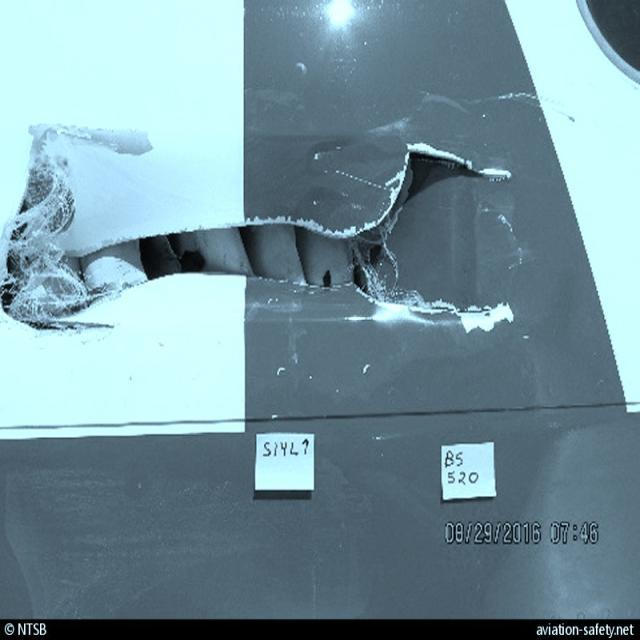crack: (398, 287, 507, 331), (414, 143, 487, 192)
